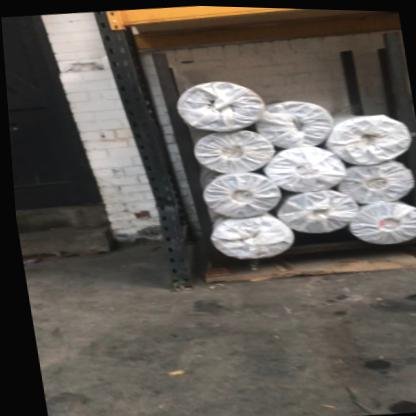vertical_damage: (133, 158, 190, 235)
